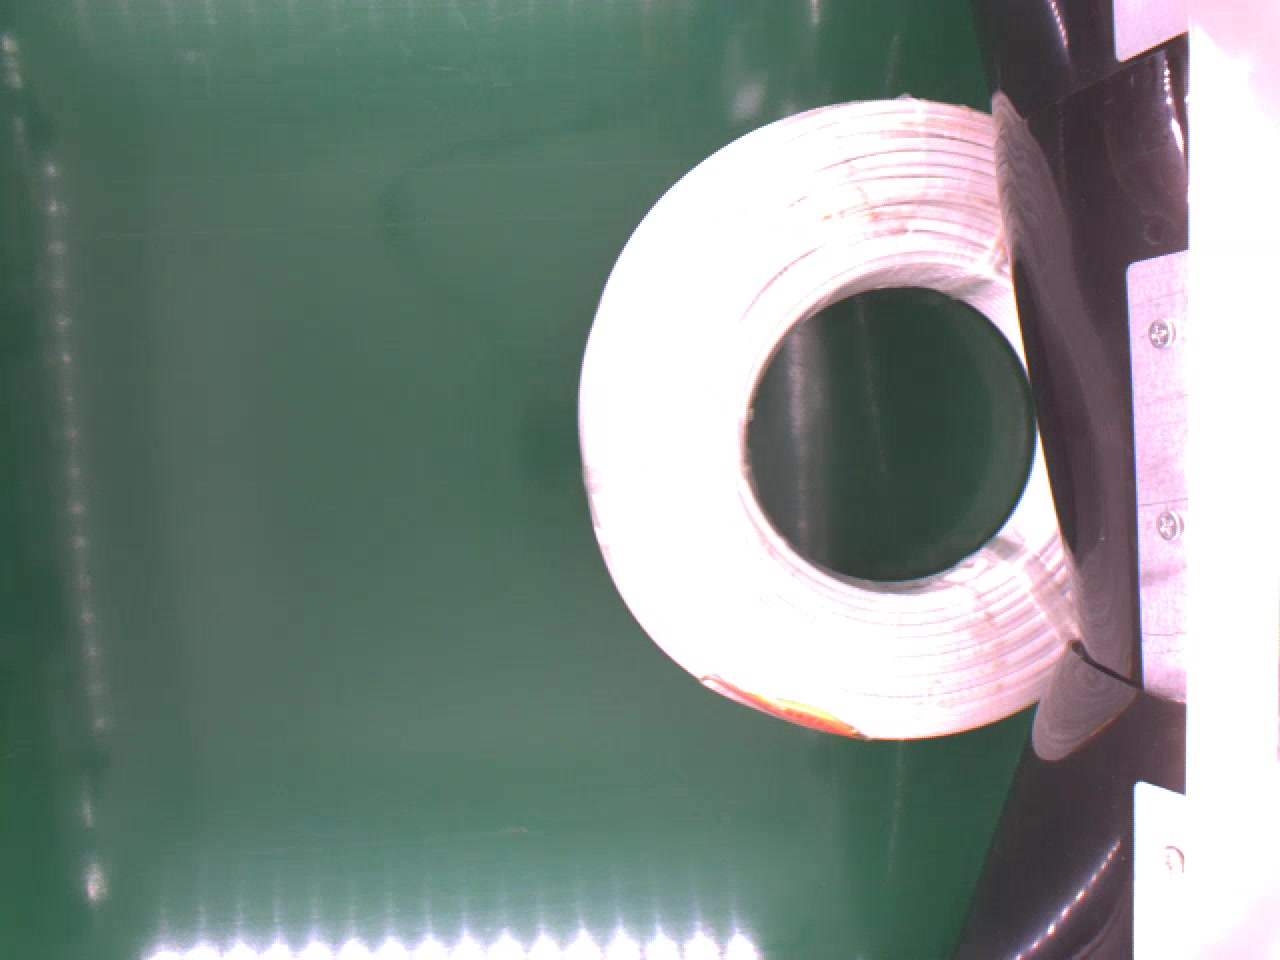white: (574, 91, 1071, 738)
